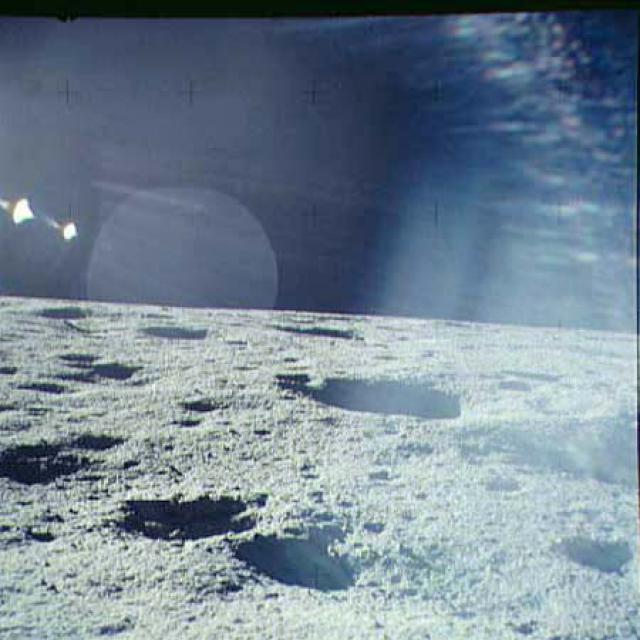crater: (455, 391, 639, 487), (289, 357, 486, 445), (100, 472, 279, 557), (230, 524, 381, 602), (536, 520, 639, 603), (274, 307, 459, 353), (0, 433, 100, 503), (168, 384, 304, 422), (125, 312, 239, 348), (26, 292, 121, 332), (70, 417, 137, 458), (81, 342, 146, 383), (20, 372, 94, 402)
